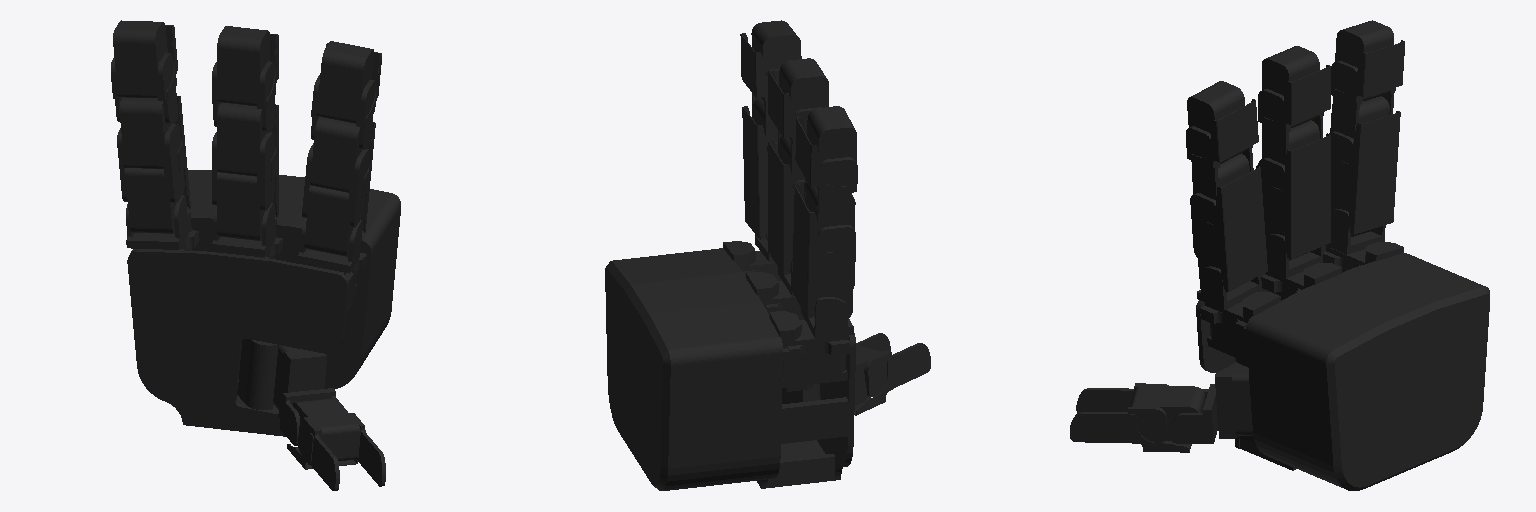
The robot description file, URDF, robot "kuka_allegro":
<?xml version="1.0" ?>
<!-- ============================================================================================== -->
<!-- |    This document was originally autogenerated by xacro from lula_kuka_allegro.urdf.xacro   | -->
<!-- ============================================================================================== -->
<robot name="kuka_allegro" xmlns:xacro="http://www.ros.org/wiki/xacro">
  <!-- ======================== BASE PARAMS ========================= -->
  <!-- ======================== FINGER PARAMS ======================== -->
  <!-- full height from joint to tip. when used,
       the radius of the finger tip sphere will be subtracted
       and one fixed link will be added for the tip. -->
  <!-- ========================= THUMB PARAMS ========================= -->
  <!-- ========================= LIMITS ========================= -->
  <!-- ============================================================================= -->
  <!-- BASE -->
  <link name="allegro_mount">
    <inertial>
      <mass value="0.05"/>
      <origin rpy="0 0 0" xyz="0 0 0"/>
      <inertia ixx="1e-4" ixy="0" ixz="0" iyy="1e-4" iyz="0" izz="1e-4"/>
    </inertial>
    <visual>
      <origin rpy="0 0 0" xyz="0 0 0"/>
      <geometry>
        <mesh filename="kuka_allegro_description/meshes/mounts/allegro_mount.obj"/>
      </geometry>
      <material name="color_j7"/>
    </visual>
    <collision>
      <origin rpy="0 0 0" xyz="0 0 0"/>
      <geometry>
        <mesh filename="kuka_allegro_description/meshes/mounts/allegro_mount.obj"/>
      </geometry>
    </collision>
  </link>
  <joint name="allegro_mount_joint" type="fixed">
    <origin rpy="0 -1.5708 0.785398" xyz="-0.008219 -0.02063 0.08086"/>
    <parent link="allegro_mount"/>
    <child link="palm_link"/>
  </joint>
  <link name="palm_link">
    <inertial>
      <mass value="0.4154"/>
      <origin rpy="0 0 0" xyz="0 0 0"/>
      <inertia ixx="1e-4" ixy="0" ixz="0" iyy="1e-4" iyz="0" izz="1e-4"/>
    </inertial>
    <visual>
      <geometry>
        <mesh filename="kuka_allegro_description/meshes/allegro/base_link.obj"/>
      </geometry>
      <origin rpy="0 0 0" xyz="0 0 0 "/>
      <material name="Grey">
        <color rgba="0.2 0.2 0.2 1"/>
      </material>
    </visual>
    <collision>
      <origin rpy="0 0 0" xyz="0 0 0"/>
      <geometry>
        <mesh filename="kuka_allegro_description/meshes/allegro/base_link.obj"/>
      </geometry>
    </collision>
  </link>

  <gazebo reference="palm_link">
    <material value="Gazebo/Grey"/>
  </gazebo>
  <link name="index_link_0">
    <collision>
      <geometry>
        <mesh filename="kuka_allegro_description/meshes/allegro/primary_base.obj"/>
      </geometry>
    </collision>
    <inertial>
      <mass value="0.0119"/>
      <origin rpy="0 0 0" xyz="0 0 0"/>
      <inertia ixx="1.01666658333e-06" ixy="0.0" ixz="0.0" iyy="6.47677333333e-07" iyz="0.0" izz="1.01666658333e-06"/>
    </inertial>
    <visual>
      <geometry>
        <mesh filename="kuka_allegro_description/meshes/allegro/primary_base.obj"/>
      </geometry>
      <material name="Grey">
        <color rgba="0.2 0.2 0.2 1"/>
      </material>
    </visual>
  </link>
  <link name="index_link_1">
    <collision>
      <geometry>
        <mesh filename="kuka_allegro_description/meshes/allegro/primary_proximal.obj"/>
      </geometry>
    </collision>
    <inertial>
      <mass value="0.065"/>
      <origin rpy="0 0 0" xyz="0 0 0"/>
      <inertia ixx="7.95654166667e-05" ixy="1.7199e-05" ixz="8.75875e-06" iyy="2.47088833333e-05" iyz="2.413125e-05" izz="7.95654166667e-05"/>
    </inertial>
    <visual>
      <geometry>
        <mesh filename="kuka_allegro_description/meshes/allegro/primary_proximal.obj"/>
      </geometry>
      <material name="Grey">
        <color rgba="0.2 0.2 0.2 1"/>
      </material>
    </visual>
  </link>
  <link name="index_link_2">
    <collision>
      <geometry>
        <mesh filename="kuka_allegro_description/meshes/allegro/primary_medial.obj"/>
      </geometry>
    </collision>
        <inertial>
      <mass value="0.0355"/>
      <origin rpy="0 0 0" xyz="0 0 0"/>
      <inertia ixx="2.63979183333e-05" ixy="6.67968e-06" ixz="4.783625e-06" iyy="1.34948516667e-05" iyz="9.372e-06" izz="2.63979183333e-05"/>
    </inertial>
    <visual>
      <geometry>
        <mesh filename="kuka_allegro_description/meshes/allegro/primary_medial.obj"/>
      </geometry>
      <material name="Grey">
        <color rgba="0.2 0.2 0.2 1"/>
      </material>
    </visual>
  </link>
  <link name="index_link_3">
    <collision>
      <geometry>
        <mesh filename="meshes/touchsensor/collision/touch_sensor_base.obj"/>
      </geometry>
    </collision>
    <inertial>
      <mass value="0.0096"/>
      <origin rpy="0 0 0" xyz="0 0 0"/>
      <inertia ixx="4.701248e-06" ixy="1.255968e-06" ixz="1.2936e-06" iyy="3.649312e-06" iyz="1.7622e-06" izz="4.701248e-06"/>
    </inertial>
    <visual>
      <geometry>
        <mesh filename="meshes/touchsensor/visual/touch_sensor_base.obj"/>
      </geometry>
      <material name="Green">
        <color rgba="0. 0.5 0. 1"/>
      </material>
    </visual>
  </link>
  <link name="index_biotac_tip">
    <collision>
      <geometry>
        <mesh filename="meshes/touchsensor/collision/touch_sensor_tip.obj"/>
      </geometry>
    </collision>
    <inertial>
      <mass value="0.021"/>
      <origin rpy="0 0 0" xyz="0 0 0"/>
      <inertia ixx="9.68e-07" ixy="0" ixz="0" iyy="9.68e-07" iyz="0" izz="9.68e-07"/>
    </inertial>
    <visual>
      <geometry>
        <mesh filename="meshes/touchsensor/visual/touch_sensor_tip.obj"/>
      </geometry>
      <material name="Green">
        <color rgba="0. 0.5 0. 1"/>
      </material>
    </visual>
  </link>
  <link name="middle_link_0">
    <collision>
      <geometry>
        <mesh filename="kuka_allegro_description/meshes/allegro/primary_base.obj"/>
      </geometry>
    </collision>
    <inertial>
      <mass value="0.0119"/>
      <origin rpy="0 0 0" xyz="0 0 0"/>
      <inertia ixx="1.01666658333e-06" ixy="0.0" ixz="0.0" iyy="6.47677333333e-07" iyz="0.0" izz="1.01666658333e-06"/>
    </inertial>
    <visual>
      <geometry>
        <mesh filename="kuka_allegro_description/meshes/allegro/primary_base.obj"/>
      </geometry>
      <material name="Grey">
        <color rgba="0.2 0.2 0.2 1"/>
      </material>
    </visual>
  </link>
  <link name="middle_link_1">
    <collision>
      <geometry>
        <mesh filename="kuka_allegro_description/meshes/allegro/primary_proximal.obj"/>
      </geometry>
    </collision>
    <inertial>
      <mass value="0.065"/>
      <origin rpy="0 0 0" xyz="0 0 0"/>
      <inertia ixx="7.95654166667e-05" ixy="1.7199e-05" ixz="8.75875e-06" iyy="2.47088833333e-05" iyz="2.413125e-05" izz="7.95654166667e-05"/>
    </inertial>
    <visual>
      <geometry>
        <mesh filename="kuka_allegro_description/meshes/allegro/primary_proximal.obj"/>
      </geometry>
      <material name="Grey">
        <color rgba="0.2 0.2 0.2 1"/>
      </material>
    </visual>
  </link>
  <link name="middle_link_2">
    <collision>
      <geometry>
        <mesh filename="kuka_allegro_description/meshes/allegro/primary_medial.obj"/>
      </geometry>
    </collision>
    <inertial>
      <mass value="0.0355"/>
      <origin rpy="0 0 0" xyz="0 0 0"/>
      <inertia ixx="2.63979183333e-05" ixy="6.67968e-06" ixz="4.783625e-06" iyy="1.34948516667e-05" iyz="9.372e-06" izz="2.63979183333e-05"/>
    </inertial>
    <visual>
      <geometry>
        <mesh filename="kuka_allegro_description/meshes/allegro/primary_medial.obj"/>
      </geometry>
      <material name="Grey">
        <color rgba="0.2 0.2 0.2 1"/>
      </material>
    </visual>
  </link>
  <link name="middle_link_3">
    <collision>
      <geometry>
        <mesh filename="meshes/touchsensor/collision/touch_sensor_base.obj"/>
      </geometry>
    </collision>
    <inertial>
      <mass value="0.0096"/>
      <origin rpy="0 0 0" xyz="0 0 0"/>
      <inertia ixx="4.701248e-06" ixy="1.255968e-06" ixz="1.2936e-06" iyy="3.649312e-06" iyz="1.7622e-06" izz="4.701248e-06"/>
    </inertial>
    <visual>
      <geometry>
        <mesh filename="meshes/touchsensor/visual/touch_sensor_base.obj"/>
      </geometry>
      <material name="Green">
        <color rgba="0 0.5 0 1"/>
      </material>
    </visual>
  </link>
  <link name="middle_biotac_tip">
    <collision>
      <geometry>
        <mesh filename="meshes/touchsensor/collision/touch_sensor_tip.obj"/>
      </geometry>
    </collision>
    <inertial>
      <mass value="0.021"/>
      <origin rpy="0 0 0" xyz="0 0 0"/>
      <inertia ixx="9.68e-07" ixy="0" ixz="0" iyy="9.68e-07" iyz="0" izz="9.68e-07"/>
    </inertial>
    <visual>
      <geometry>
        <mesh filename="meshes/touchsensor/visual/touch_sensor_tip.obj"/>
      </geometry>
      <material name="Green">
        <color rgba="0. 0.5 0. 1"/>
      </material>
    </visual>
  </link>

  <link name="ring_link_0">
    <collision>
      <geometry>
        <mesh filename="kuka_allegro_description/meshes/allegro/primary_base.obj"/>
      </geometry>
    </collision>
    <inertial>
      <mass value="0.0119"/>
      <origin rpy="0 0 0" xyz="0 0 0"/>
      <inertia ixx="1.01666658333e-06" ixy="0.0" ixz="0.0" iyy="6.47677333333e-07" iyz="0.0" izz="1.01666658333e-06"/>
    </inertial>
    <visual>
      <geometry>
        <mesh filename="kuka_allegro_description/meshes/allegro/primary_base.obj"/>
      </geometry>
      <material name="Grey">
        <color rgba="0.2 0.2 0.2 1"/>
      </material>
    </visual>
  </link>
  <link name="ring_link_1">
    <collision>
      <geometry>
        <mesh filename="kuka_allegro_description/meshes/allegro/primary_proximal.obj"/>
      </geometry>
    </collision>
    <inertial>
      <mass value="0.065"/>
      <origin rpy="0 0 0" xyz="0 0 0"/>
      <inertia ixx="7.95654166667e-05" ixy="1.7199e-05" ixz="8.75875e-06" iyy="2.47088833333e-05" iyz="2.413125e-05" izz="7.95654166667e-05"/>
    </inertial>
    <visual>
      <geometry>
        <mesh filename="kuka_allegro_description/meshes/allegro/primary_proximal.obj"/>
      </geometry>
      <material name="Grey">
        <color rgba="0.2 0.2 0.2 1"/>
      </material>
    </visual>
  </link>
  <link name="ring_link_2">
    <collision>
      <geometry>
        <mesh filename="kuka_allegro_description/meshes/allegro/primary_medial.obj"/>
      </geometry>
    </collision>
    <inertial>
      <mass value="0.0355"/>
      <origin rpy="0 0 0" xyz="0 0 0"/>
      <inertia ixx="2.63979183333e-05" ixy="6.67968e-06" ixz="4.783625e-06" iyy="1.34948516667e-05" iyz="9.372e-06" izz="2.63979183333e-05"/>
    </inertial>
    <visual>
      <geometry>
        <mesh filename="kuka_allegro_description/meshes/allegro/primary_medial.obj"/>
      </geometry>
      <material name="Grey">
        <color rgba="0.2 0.2 0.2 1"/>
      </material>
    </visual>
  </link>
  <link name="ring_link_3">
    <collision>
      <geometry>
        <mesh filename="meshes/touchsensor/collision/touch_sensor_base.obj"/>
      </geometry>
    </collision>
    <inertial>
      <mass value="0.0096"/>
      <origin rpy="0 0 0" xyz="0 0 0"/>
      <inertia ixx="4.701248e-06" ixy="1.255968e-06" ixz="1.2936e-06" iyy="3.649312e-06" iyz="1.7622e-06" izz="4.701248e-06"/>
    </inertial>
    <visual>
      <geometry>
        <mesh filename="meshes/touchsensor/visual/touch_sensor_base.obj"/>
      </geometry>
      <material name="Green">
        <color rgba="0 0.5 0 1"/>
      </material>
    </visual>
  </link>
  <link name="ring_biotac_tip">
    <collision>
      <geometry>
        <mesh filename="meshes/touchsensor/collision/touch_sensor_tip.obj"/>
      </geometry>
    </collision>
    <inertial>
      <mass value="0.021"/>
      <origin rpy="0 0 0" xyz="0 0 0"/>
      <inertia ixx="9.68e-07" ixy="0" ixz="0" iyy="9.68e-07" iyz="0" izz="9.68e-07"/>
    </inertial>
    <visual>
      <geometry>
        <mesh filename="meshes/touchsensor/visual/touch_sensor_tip.obj"/>
      </geometry>
      <material name="Green">
        <color rgba="0. 0.5 0. 1"/>
      </material>
    </visual>
  </link>

  <link name="thumb_link_0">
    <collision>
      <geometry>
        <mesh filename="kuka_allegro_description/meshes/allegro/thumb_base.obj"/>
      </geometry>
    </collision>
    <inertial>
      <mass value="0.0176"/>
      <origin rpy="0 0 0" xyz="0 0 0"/>
      <inertia ixx="1.89273333333e-5" ixy="7.16716e-06" ixz="5.35568e-06" iyy="1.43008213333e-05" iyz="6.8068e-06" izz="1.89273333333e-05"/>
    </inertial>
    <visual>
      <geometry>
        <mesh filename="kuka_allegro_description/meshes/allegro/thumb_base.obj"/>
      </geometry>
      <material name="Grey">
        <color rgba="0.2 0.2 0.2 1"/>
      </material>
    </visual>
  </link>
  <link name="thumb_link_1">
    <collision>
      <geometry>
        <mesh filename="kuka_allegro_description/meshes/allegro/thumb_proximal.obj"/>
      </geometry>
    </collision>
    <inertial>
      <mass value="0.0119"/>
      <origin rpy="0 0 0" xyz="0 0 0"/>
      <inertia ixx="4.24250866667e-06" ixy="1.032087e-06" ixz="1.603525e-06" iyy="4.52362633333e-06" iyz="1.44808125e-06" izz="4.24250866667e-06"/>
    </inertial>
    <visual>
      <geometry>
        <mesh filename="kuka_allegro_description/meshes/allegro/thumb_proximal.obj"/>
      </geometry>
      <material name="Grey">
        <color rgba="0.2 0.2 0.2 1"/>
      </material>
    </visual>
  </link>
  <link name="thumb_link_2">
    <collision>
      <geometry>
        <mesh filename="kuka_allegro_description/meshes/allegro/thumb_medial.obj"/>
      </geometry>
    </collision>
    <inertial>
      <mass value="0.038"/>
      <origin rpy="0 0 0" xyz="0 0 0"/>
      <inertia ixx="4.30439933333e-05" ixy="9.57068e-06" ixz="5.1205e-06" iyy="1.44451933333e-05" iyz="1.342825e-05" izz="4.30439933333e-05"/>
    </inertial>
    <visual>
      <geometry>
        <mesh filename="kuka_allegro_description/meshes/allegro/thumb_medial.obj"/>
      </geometry>
      <material name="Grey">
        <color rgba="0.2 0.2 0.2 1"/>
      </material>
    </visual>
  </link>
  <link name="thumb_link_3">
    <collision>
      <geometry>
        <mesh filename="meshes/touchsensor/collision/touch_sensor_thumb_base.obj"/>
      </geometry>
    </collision>
    <inertial>
      <mass value="0.0388"/>
      <origin rpy="0 0 0" xyz="0 0 0"/>
      <inertia ixx="3.29223173333e-05" ixy="8.042076e-06" ixz="5.2283e-06" iyy="1.47493026667e-5" iyz="1.1283525e-5" izz="3.29223173333e-05"/>
    </inertial>
    <visual>
      <geometry>
        <mesh filename="meshes/touchsensor/visual/touch_sensor_thumb_base.obj"/>
      </geometry>
      <material name="Green">
        <color rgba="0 0.5 0 1"/>
      </material>
    </visual>
  </link>
  <link name="thumb_biotac_tip">
    <collision>
      <geometry>
        <mesh filename="meshes/touchsensor/collision/touch_sensor_thumb_tip.obj"/>
      </geometry>
    </collision>
    <inertial>
      <mass value="0.021"/>
      <origin rpy="0 0 0" xyz="0 0 0"/>
      <inertia ixx="9.68e-07" ixy="0" ixz="0" iyy="9.68e-07" iyz="0" izz="9.68e-07"/>
    </inertial>
    <visual>
      <geometry>
        <mesh filename="meshes/touchsensor/visual/touch_sensor_thumb_tip.obj"/>
      </geometry>
      <material name="Green">
        <color rgba="0. 0.5 0. 1"/>
      </material>
    </visual>
  </link>

  <joint name="index_joint_0" type="revolute">
    <axis xyz="0 0 1"/>
    <limit effort="0.35" lower="-0.558488888889" upper="0.558488888889" velocity="6.283"/>
    <origin rpy="3.1415 -1.57075 -0.0872638888889" xyz="0.0514302 -0.03632 -0.0113"/>
    <parent link="palm_link"/>
    <child link="index_link_0"/>
    <dynamics damping="0.0414019" friction="0.0523963"/>
  </joint>
  <joint name="index_joint_1" type="revolute">
    <axis xyz="0 0 1"/>
    <limit effort="0.35" lower="-0.279244444444" upper="1.727825" velocity="6.283"/>
    <origin rpy="3.1415 -1.57075 1.57075" xyz="0.0 0.0 0.0"/>
    <parent link="index_link_0"/>
    <child link="index_link_1"/>
    <dynamics damping="0.00587541" friction="0.0150275"/>
  </joint>
  <joint name="index_joint_2" type="revolute">
    <axis xyz="0 0 1"/>
    <limit effort="0.35" lower="-0.279244444444" upper="1.727825" velocity="6.283"/>
    <origin rpy="0.0 0.0 0.0" xyz="0.054 0.0 0.0"/>
    <parent link="index_link_1"/>
    <child link="index_link_2"/>
    <dynamics damping="0.010638" friction="0.00616359"/>
  </joint>
  <joint name="index_joint_3" type="revolute">
    <axis xyz="0 0 1"/>
    <limit effort="0.35" lower="-0.279244444444" upper="1.727825" velocity="6.283"/>
    <origin rpy="0.0 0.0 0.0" xyz="0.0384 0.0 0.0"/>
    <parent link="index_link_2"/>
    <child link="index_link_3"/>
    <dynamics damping="0.0226948" friction="0.0227036"/>
  </joint>
  <joint name="index_biotac_tip_joint" type="fixed">
    <origin rpy="0 0 0 " xyz="0.0 0 0"/>
    <parent link="index_link_3"/>
    <child link="index_biotac_tip"/>
  </joint>

  <joint name="middle_joint_0" type="revolute">
    <axis xyz="0 0 1"/>
    <limit effort="0.35" lower="-0.558488888889" upper="0.558488888889" velocity="6.283"/>
    <origin rpy="3.1415 -1.57075 0" xyz="0.0537375 0.0087771 -0.0113"/>
    <parent link="palm_link"/>
    <child link="middle_link_0"/>
    <dynamics damping="0.0414019" friction="0.0523963"/>
  </joint>
  <joint name="middle_joint_1" type="revolute">
    <axis xyz="0 0 1"/>
    <limit effort="0.35" lower="-0.279244444444" upper="1.727825" velocity="6.283"/>
    <origin rpy="3.1415 -1.57075 1.57075" xyz="0.0 0.0 0.0"/>
    <parent link="middle_link_0"/>
    <child link="middle_link_1"/>
    <dynamics damping="0.00587541" friction="0.0150275"/>
  </joint>
  <joint name="middle_joint_2" type="revolute">
    <axis xyz="0 0 1"/>
    <limit effort="0.35" lower="-0.279244444444" upper="1.727825" velocity="6.283"/>
    <origin rpy="0.0 0.0 0.0" xyz="0.054 0.0 0.0"/>
    <parent link="middle_link_1"/>
    <child link="middle_link_2"/>
    <dynamics damping="0.010638" friction="0.00616359"/>
  </joint>
  <joint name="middle_joint_3" type="revolute">
    <axis xyz="0 0 1"/>
    <limit effort="0.35" lower="-0.279244444444" upper="1.727825" velocity="6.283"/>
    <origin rpy="0.0 0.0 0.0" xyz="0.0384 0.0 0.0"/>
    <parent link="middle_link_2"/>
    <child link="middle_link_3"/>
    <dynamics damping="0.0226948" friction="0.0227036"/>
  </joint>
  <joint name="middle_biotac_tip_joint" type="fixed">
    <origin rpy="0 0 0 " xyz="0 0 0"/>
    <parent link="middle_link_3"/>
    <child link="middle_biotac_tip"/>
  </joint>

  <joint name="ring_joint_0" type="revolute">
    <axis xyz="0 0 1"/>
    <limit effort="0.35" lower="-0.558488888889" upper="0.558488888889" velocity="6.283"/>
    <origin rpy="3.1415 -1.57075 0.0872638888889" xyz="0.0514302 0.0538749 -0.0113"/>
    <parent link="palm_link"/>
    <child link="ring_link_0"/>
    <dynamics damping="0.0414019" friction="0.0523963"/>
  </joint>
  <joint name="ring_joint_1" type="revolute">
    <axis xyz="0 0 1"/>
    <limit effort="0.35" lower="-0.279244444444" upper="1.727825" velocity="6.283"/>
    <origin rpy="3.1415 -1.57075 1.57075" xyz="0.0 0.0 0.0"/>
    <parent link="ring_link_0"/>
    <child link="ring_link_1"/>
    <dynamics damping="0.00587541" friction="0.0150275"/>
  </joint>
  <joint name="ring_joint_2" type="revolute">
    <axis xyz="0 0 1"/>
    <limit effort="0.35" lower="-0.279244444444" upper="1.727825" velocity="6.283"/>
    <origin rpy="0.0 0.0 0.0" xyz="0.054 0.0 0.0"/>
    <parent link="ring_link_1"/>
    <child link="ring_link_2"/>
    <dynamics damping="0.010638" friction="0.00616359"/>
  </joint>
  <joint name="ring_joint_3" type="revolute">
    <axis xyz="0 0 1"/>
    <limit effort="0.35" lower="-0.279244444444" upper="1.727825" velocity="6.283"/>
    <origin rpy="0.0 0.0 0.0" xyz="0.0384 0.0 0.0"/>
    <parent link="ring_link_2"/>
    <child link="ring_link_3"/>
    <dynamics damping="0.0226948" friction="0.0227036"/>
  </joint>
  <joint name="ring_biotac_tip_joint" type="fixed">
    <origin rpy="0 0 0" xyz="0 0 0"/>
    <parent link="ring_link_3"/>
    <child link="ring_biotac_tip"/>
  </joint>

  <joint name="thumb_joint_0" type="revolute">
    <axis xyz="0 0 1"/>
    <limit effort="0.35" lower="0.279244444444" upper="1.57075" velocity="6.283"/>
    <origin rpy="-1.57075 -1.57075 1.48348611111" xyz="-0.0367482 -0.0081281 -0.0295"/>
    <parent link="palm_link"/>
    <child link="thumb_link_0"/>
    <dynamics friction="0.035"/>
  </joint>
  <joint name="thumb_joint_1" type="revolute">
    <axis xyz="0 0 1"/>
    <limit effort="0.35" lower="-0.331602777778" upper="1.15188333333" velocity="6.283"/>
    <origin rpy="1.57075 0 0" xyz="0.005 0.0 0.0"/>
    <parent link="thumb_link_0"/>
    <child link="thumb_link_1"/>
    <dynamics friction="0.035"/>
  </joint>
  <joint name="thumb_joint_2" type="revolute">
    <axis xyz="0 0 1"/>
    <limit effort="0.35" lower="-0.279244444444" upper="1.727825" velocity="6.283"/>
    <origin rpy="3.1415 -1.57075 0.0" xyz="0 0 0.0554"/>
    <parent link="thumb_link_1"/>
    <child link="thumb_link_2"/>
    <dynamics friction="0.035"/>
  </joint>
  <joint name="thumb_joint_3" type="revolute">
    <axis xyz="0 0 1"/>
    <limit effort="0.35" lower="-0.279244444444" upper="1.76273055556" velocity="6.283"/>
    <origin rpy="0.0 0.0 0.0" xyz="0.0514 0.0 0.0"/>
    <parent link="thumb_link_2"/>
    <child link="thumb_link_3"/>
    <dynamics friction="0.035"/>
  </joint>
  <joint name="thumb_biotac_tip_joint" type="fixed">
    <origin rpy="0 0 0 " xyz="0 0 0"/>
    <parent link="thumb_link_3"/>
    <child link="thumb_biotac_tip"/>
  </joint>

</robot>

--- What the picture shows (computed from the rendered views, not written in the file) ---
Views: 3 orthographic renders of the robot side by side, from view 1: azimuth 30°, elevation 25°; view 2: azimuth 150°, elevation 25°; view 3: azimuth 270°, elevation 25°.
Robot: kuka_allegro — 22 links, 21 joints (16 revolute, 5 fixed); root link allegro_mount; default pose: all joints at 0 but 1 set to mid-range because 0 is outside their limits (thumb_joint_0 = 0.925).
Links seen in each view (by area): view 1: palm_link, ring_link_1, middle_link_1, index_link_1, thumb_link_2, ring_link_2, middle_link_2, index_link_2, thumb_link_0, middle_link_0, ring_link_0, index_link_0 (+1 smaller); view 2: palm_link, ring_link_1, ring_link_2, middle_link_2, thumb_link_2, index_link_2, middle_link_1, index_link_1, ring_link_0; view 3: palm_link, index_link_1, middle_link_1, ring_link_1, thumb_link_2, ring_link_2, middle_link_2, index_link_2, thumb_link_0, thumb_link_1, index_link_0, middle_link_0 (+1 smaller).
Boxes of the visible links, x1=… form: palm_link: x1=127, y1=170, x2=400, y2=436; ring_link_1: x1=117, y1=96, x2=190, y2=233; middle_link_1: x1=212, y1=103, x2=278, y2=240; index_link_1: x1=302, y1=117, x2=375, y2=256; thumb_link_2: x1=287, y1=398, x2=385, y2=490; ring_link_2: x1=111, y1=20, x2=177, y2=123; middle_link_2: x1=212, y1=26, x2=278, y2=132; index_link_2: x1=311, y1=41, x2=381, y2=149; thumb_link_0: x1=237, y1=339, x2=326, y2=417; middle_link_0: x1=212, y1=203, x2=274, y2=257; ring_link_0: x1=126, y1=195, x2=188, y2=249; index_link_0: x1=297, y1=218, x2=362, y2=273; palm_link: x1=605, y1=238, x2=855, y2=490; ring_link_1: x1=792, y1=183, x2=855, y2=318; ring_link_2: x1=795, y1=106, x2=857, y2=226; middle_link_2: x1=768, y1=58, x2=828, y2=178; thumb_link_2: x1=854, y1=333, x2=930, y2=415; index_link_2: x1=740, y1=20, x2=801, y2=140; middle_link_1: x1=768, y1=136, x2=804, y2=274; index_link_1: x1=742, y1=97, x2=778, y2=240; ring_link_0: x1=801, y1=297, x2=853, y2=338; palm_link: x1=1196, y1=236, x2=1489, y2=490; index_link_1: x1=1190, y1=153, x2=1267, y2=292; middle_link_1: x1=1258, y1=120, x2=1330, y2=260; ring_link_1: x1=1329, y1=96, x2=1400, y2=236; thumb_link_2: x1=1070, y1=383, x2=1205, y2=452; ring_link_2: x1=1331, y1=20, x2=1404, y2=136; middle_link_2: x1=1258, y1=46, x2=1330, y2=163; index_link_2: x1=1186, y1=81, x2=1258, y2=198; thumb_link_0: x1=1215, y1=362, x2=1252, y2=438; thumb_link_1: x1=1170, y1=384, x2=1217, y2=443; index_link_0: x1=1197, y1=266, x2=1261, y2=310; middle_link_0: x1=1266, y1=234, x2=1322, y2=278.
Size in the robot's own frame: 0.1541 by 0.2127 by 0.2128 metres.
Meshes: 12 distinct files referenced, 13 mesh visuals loaded (7 OBJ); not drawn: 9 (reference not matched to a file when rendering).